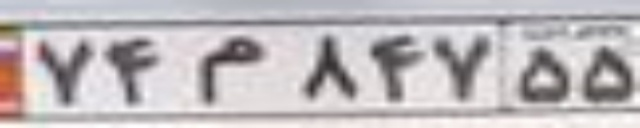4: (368, 34, 427, 102), (104, 36, 160, 104)
5: (575, 45, 637, 103), (515, 46, 569, 103)
7: (431, 33, 497, 100), (299, 34, 359, 101), (36, 37, 94, 106)
mim: (198, 34, 264, 103)
